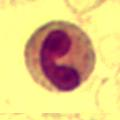monocyte: (22, 18, 102, 96)
